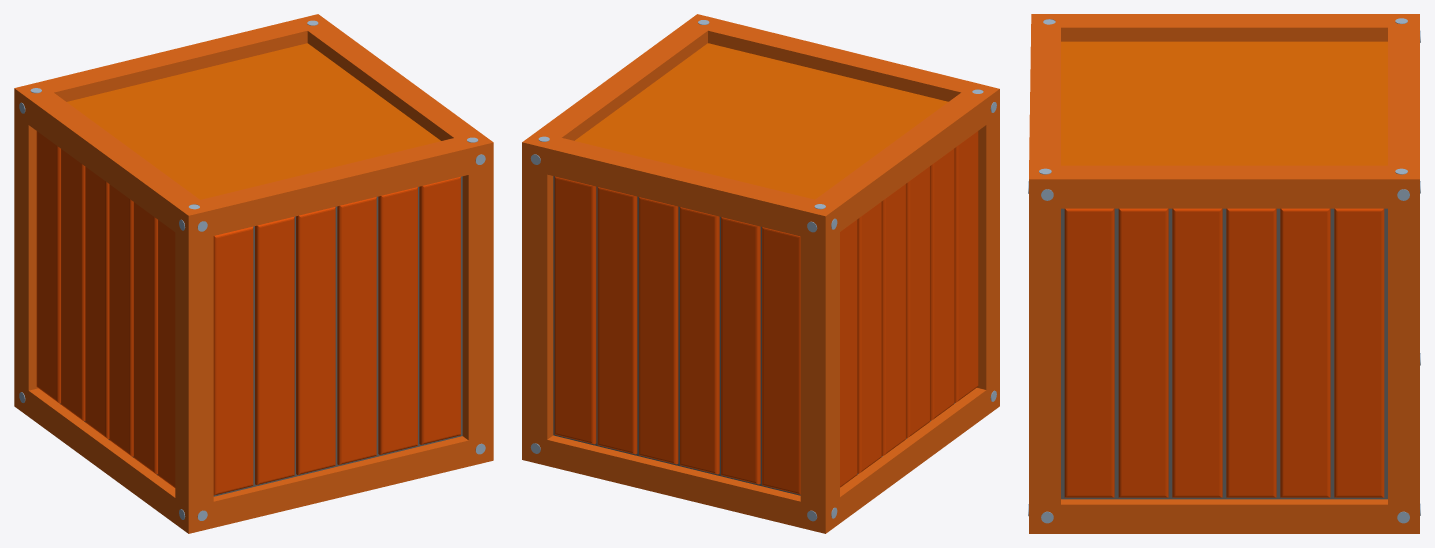
The model's file is 6x0 kutija final.fbx.
3 views of the same model, side by side, from view 1: azimuth 30°, elevation 25°; view 2: azimuth 150°, elevation 25°; view 3: azimuth 270°, elevation 25° (orthographic). The views are drawn at different scales.
Parts seen in each view (by area): view 1: Cube.204; view 2: Cube.204; view 3: Cube.204.
Boxes of the visible parts, left/top/right/bottom form: Cube.204: left=14, top=14, right=493, bottom=533; Cube.204: left=522, top=14, right=999, bottom=533; Cube.204: left=1028, top=14, right=1420, bottom=533.
Bounding box in the file's own units: 201 × 200 × 201.
